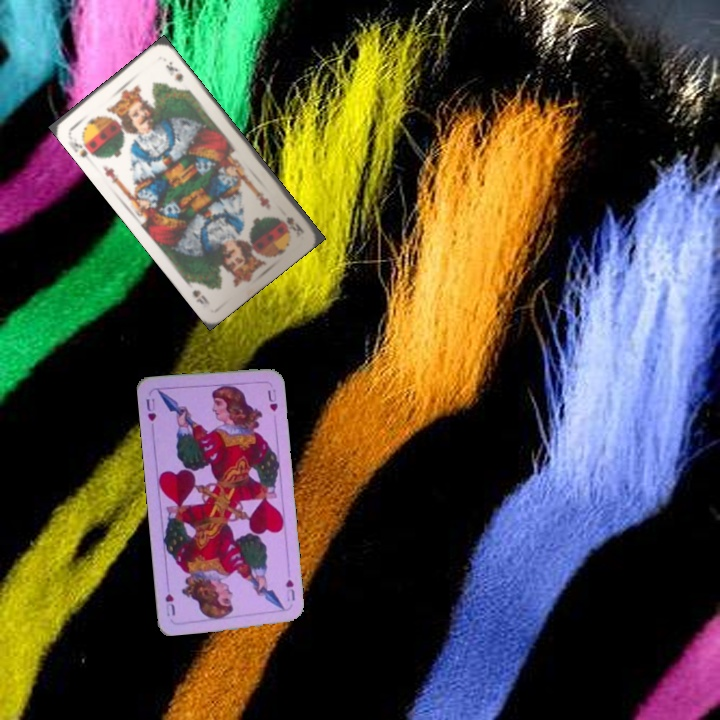HU: (142, 394, 159, 424), (281, 575, 297, 604)
SK: (63, 129, 99, 163), (282, 212, 306, 239)
